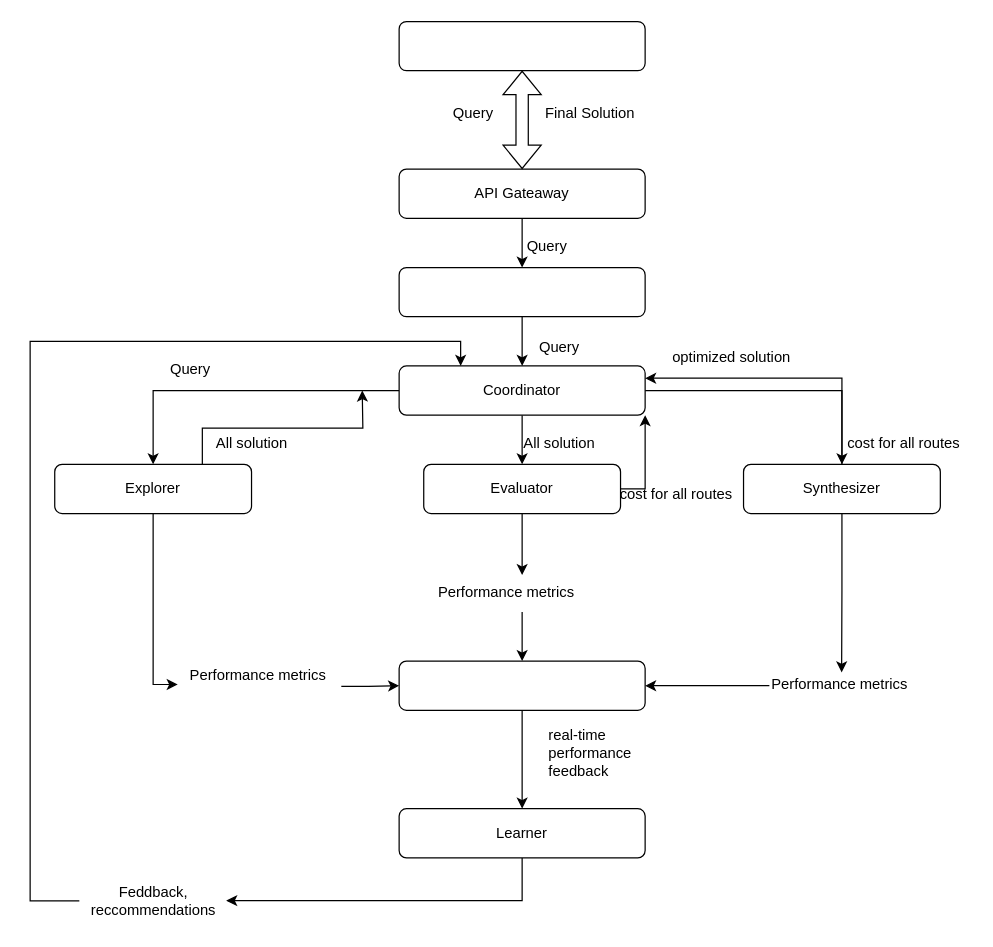
Image size: 993x947. Some labels were removed from this diagram. Each missing label, with the centre of its shape:
Monitor: point (521, 685)
Swarm Intelligence Agent: point (521, 291)
User Interface UI: point (521, 45)
